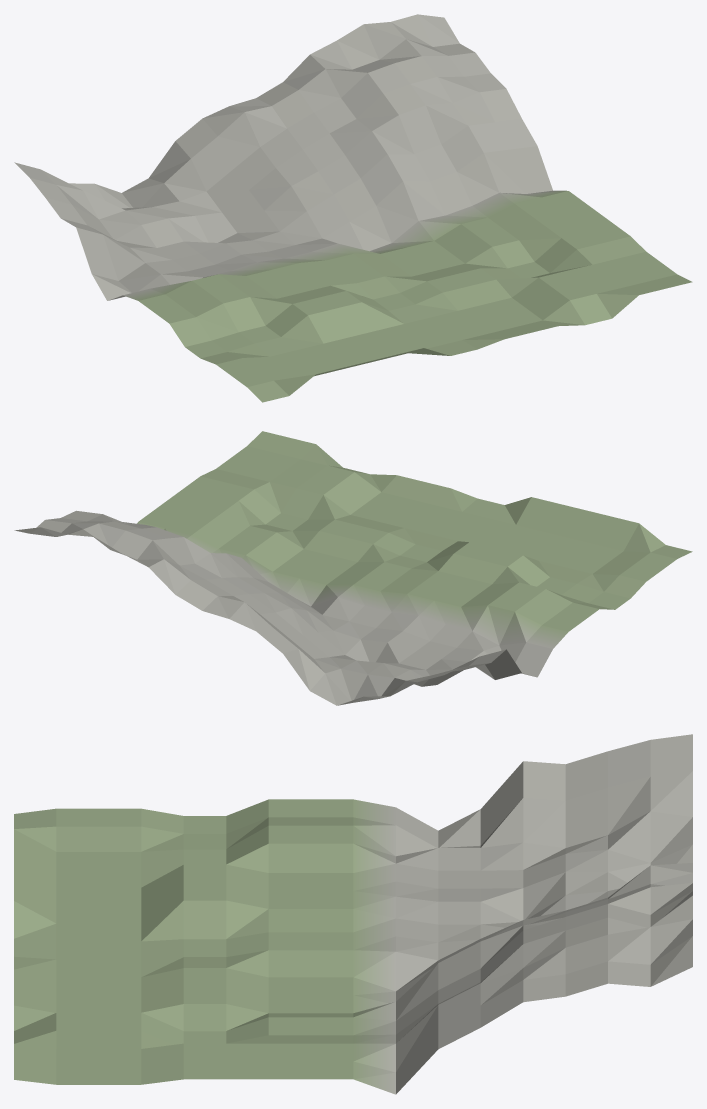
3 renders of one model, top to bottom at view 1: azimuth 30°, elevation 25°; view 2: azimuth 150°, elevation 25°; view 3: azimuth 270°, elevation 25°, orthographic. The views are drawn at different scales.
Size of the model in its own units: 32 by 8.83 by 32.
